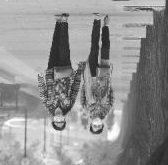person: (36, 10, 84, 132), (82, 12, 118, 135)
